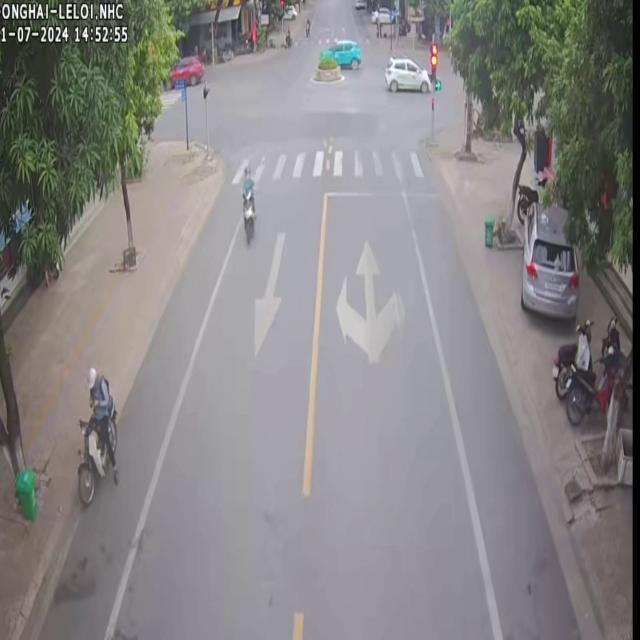car: (519, 200, 578, 316), (383, 56, 428, 91), (319, 38, 359, 66), (167, 54, 202, 85)
motobike: (76, 365, 117, 502), (564, 347, 622, 422), (550, 318, 590, 398), (240, 160, 254, 242)
red_light: (430, 46, 437, 83)
stop_line: (328, 189, 444, 193)
